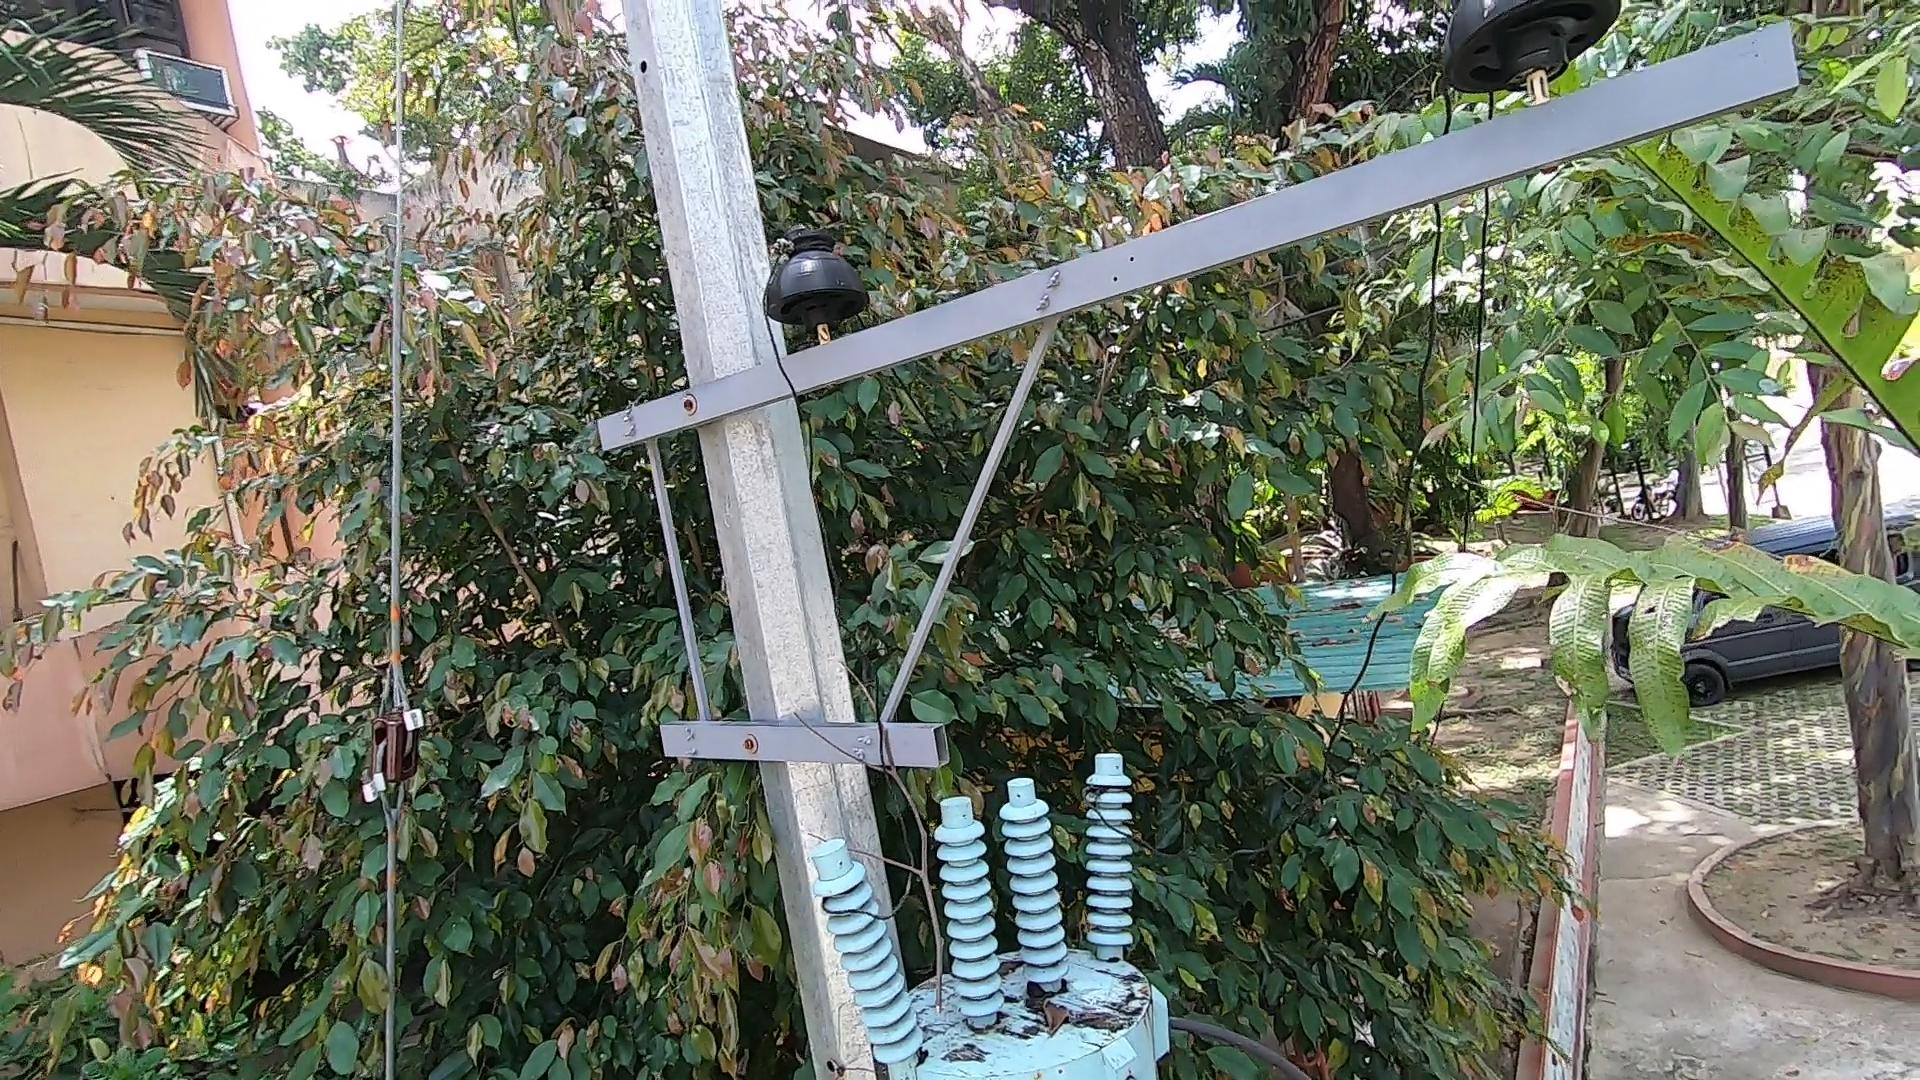leaf: (1044, 1000, 1069, 1036), (1019, 980, 1051, 1007)
tree branch: (785, 657, 982, 1005)
